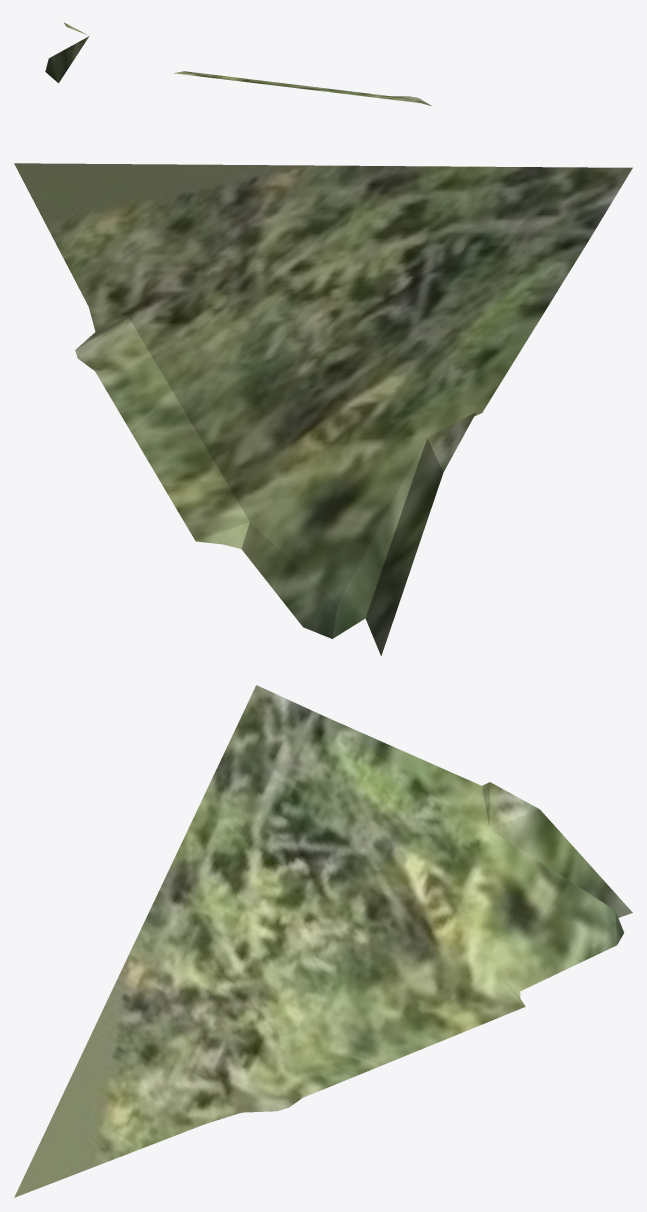
3 views of the same model, one above another, from view 1: azimuth 30°, elevation 25°; view 2: azimuth 150°, elevation 25°; view 3: azimuth 270°, elevation 25° (orthographic). The views are drawn at different scales.
Size of the model in its own units: 1.82 by 0.6787 by 1.67.
Materials: 1 (1 with a texture image).
